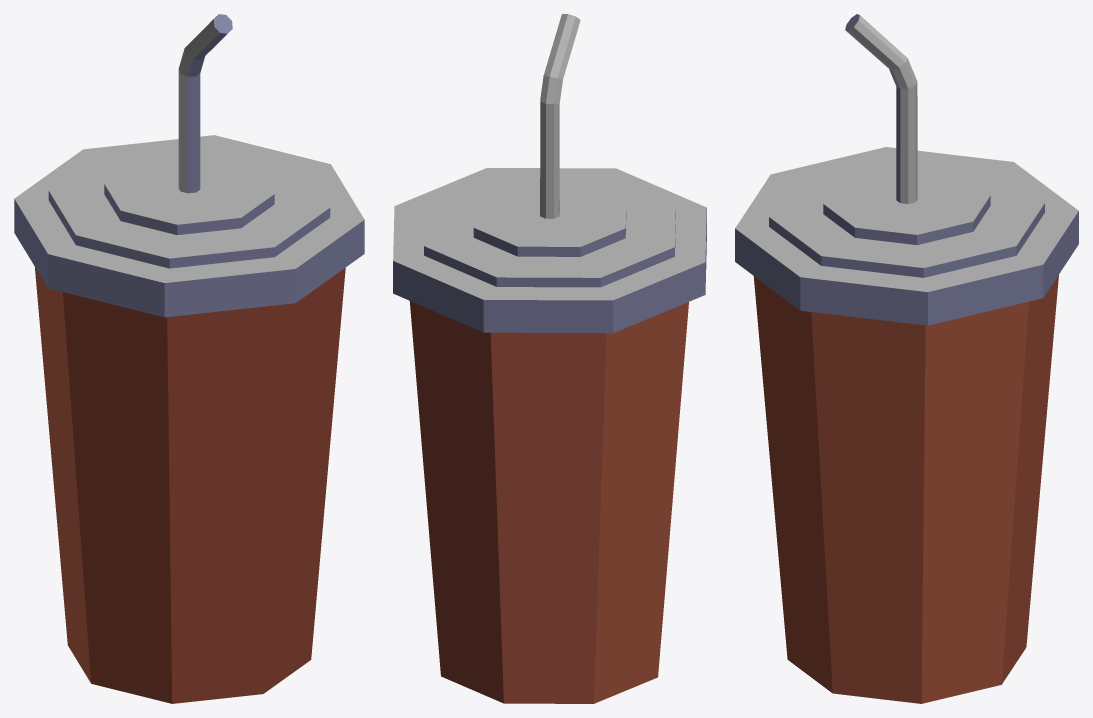
The model's file is Minuman.fbx.
3 views of the same model, side by side, from view 1: azimuth 30°, elevation 25°; view 2: azimuth 150°, elevation 25°; view 3: azimuth 270°, elevation 25° (orthographic). The views are drawn at different scales.
Visible parts, largest first — view 1: 8 soda; view 2: 8 soda; view 3: 8 soda.
Boxes of the visible parts, x1=… form: 8 soda: x1=14, y1=14, x2=364, y2=703; 8 soda: x1=393, y1=14, x2=706, y2=703; 8 soda: x1=735, y1=14, x2=1078, y2=703.
Size of the model in its own units: 23.07 by 47.46 by 23.07.
